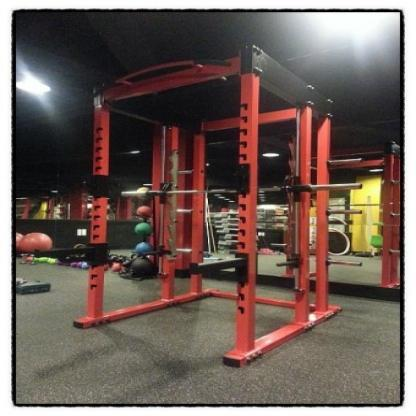smith machine: (75, 45, 363, 371)
